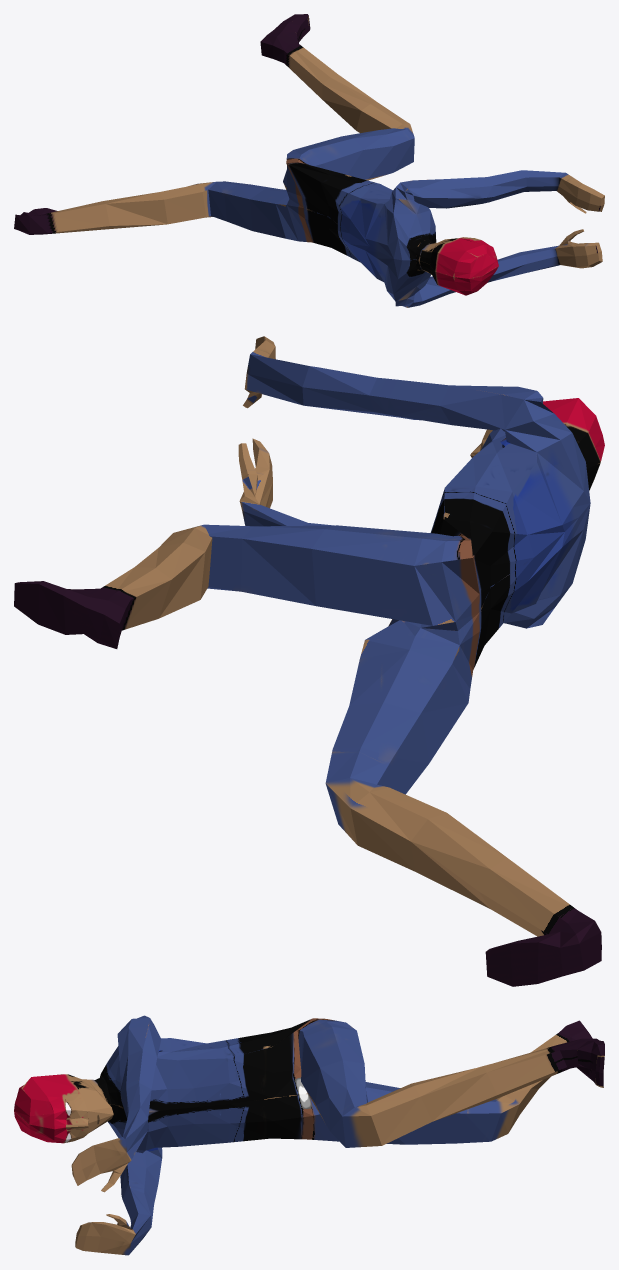
File: mirrorman_000021.obj
3 renders of one model, top to bottom at view 1: azimuth 30°, elevation 25°; view 2: azimuth 150°, elevation 25°; view 3: azimuth 270°, elevation 25°, orthographic. The views are drawn at different scales.
Visible parts, largest first — view 1: mirrorman_Cube.001_Material.001; view 2: mirrorman_Cube.001_Material.001; view 3: mirrorman_Cube.001_Material.001.
Part boxes in pixels (x1,y1,x2,y2): mirrorman_Cube.001_Material.001: (14, 14, 604, 307); mirrorman_Cube.001_Material.001: (14, 336, 604, 986); mirrorman_Cube.001_Material.001: (14, 1015, 604, 1255).
Bounding box in the file's own units: 1.42 × 0.5398 × 1.5.
